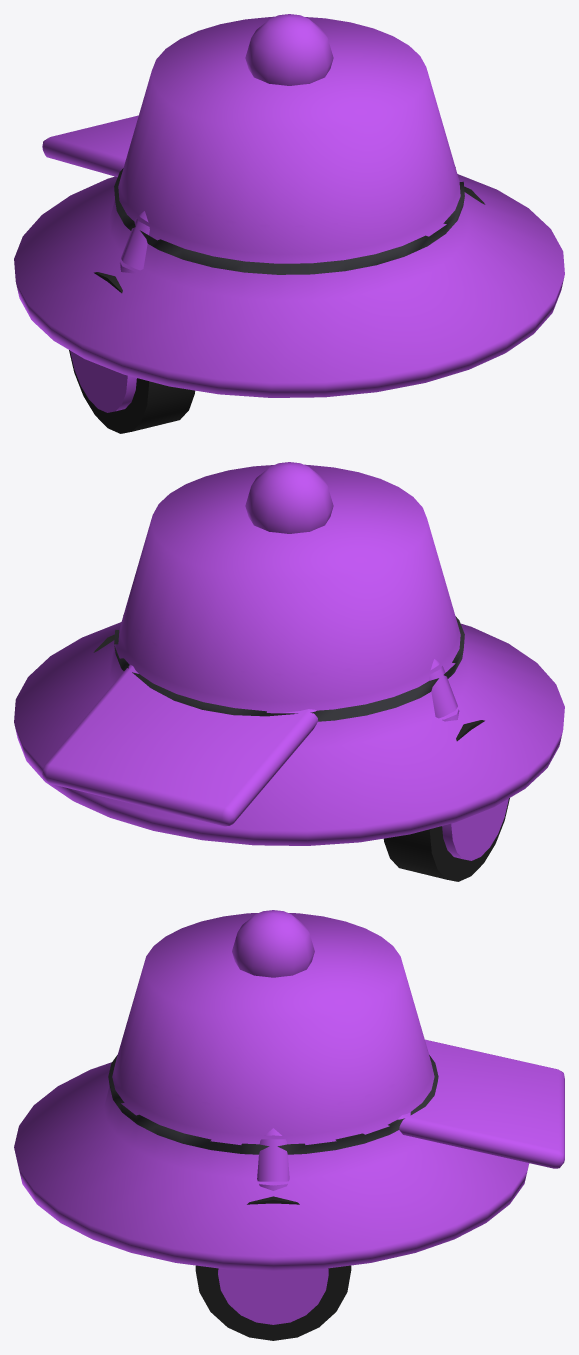
The model's file is club_hats_a.glb.
3 views of the same model, one above another, from view 1: azimuth 30°, elevation 25°; view 2: azimuth 150°, elevation 25°; view 3: azimuth 270°, elevation 25° (orthographic). The views are drawn at different scales.
Parts seen in each view (by area): view 1: HAT_fischerhut_Accent, HAT_beanie_Accent, HAT_fischerhut_Cloth, HAT_kopfhoerer_Rubber, HAT_cap_Accent, HAT_kopfhoerer_Accent; view 2: HAT_fischerhut_Accent, HAT_cap_Accent, HAT_beanie_Accent, HAT_kopfhoerer_Rubber, HAT_kopfhoerer_Accent, HAT_fischerhut_Cloth; view 3: HAT_fischerhut_Accent, HAT_cap_Accent, HAT_kopfhoerer_Accent, HAT_beanie_Accent, HAT_kopfhoerer_Rubber, HAT_fischerhut_Cloth.
Part boxes in pixels (<box>): HAT_fischerhut_Accent: <box>14,16,564,397</box>; HAT_beanie_Accent: <box>127,14,451,230</box>; HAT_fischerhut_Cloth: <box>114,167,464,274</box>; HAT_kopfhoerer_Rubber: <box>69,186,485,433</box>; HAT_cap_Accent: <box>42,115,138,177</box>; HAT_kopfhoerer_Accent: <box>70,211,149,412</box>; HAT_fischerhut_Accent: <box>14,464,564,845</box>; HAT_cap_Accent: <box>42,664,318,826</box>; HAT_beanie_Accent: <box>127,462,451,678</box>; HAT_kopfhoerer_Rubber: <box>93,634,509,881</box>; HAT_kopfhoerer_Accent: <box>429,659,508,860</box>; HAT_fischerhut_Cloth: <box>114,615,464,721</box>; HAT_fischerhut_Accent: <box>14,913,529,1270</box>; HAT_cap_Accent: <box>397,1039,564,1168</box>; HAT_kopfhoerer_Accent: <box>218,1128,328,1324</box>; HAT_beanie_Accent: <box>125,910,421,1109</box>; HAT_kopfhoerer_Rubber: <box>195,1196,351,1340</box>; HAT_fischerhut_Cloth: <box>108,1055,438,1154</box>.
Size of the model in its own units: 0.3 by 0.2194 by 0.3186.
